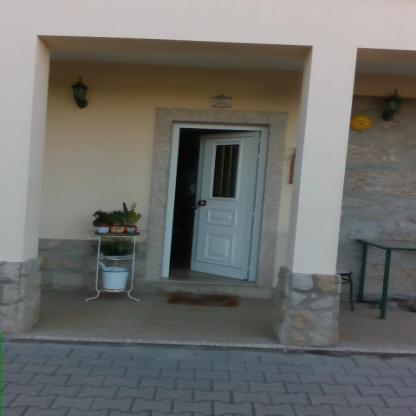semi: (153, 109, 283, 298)
